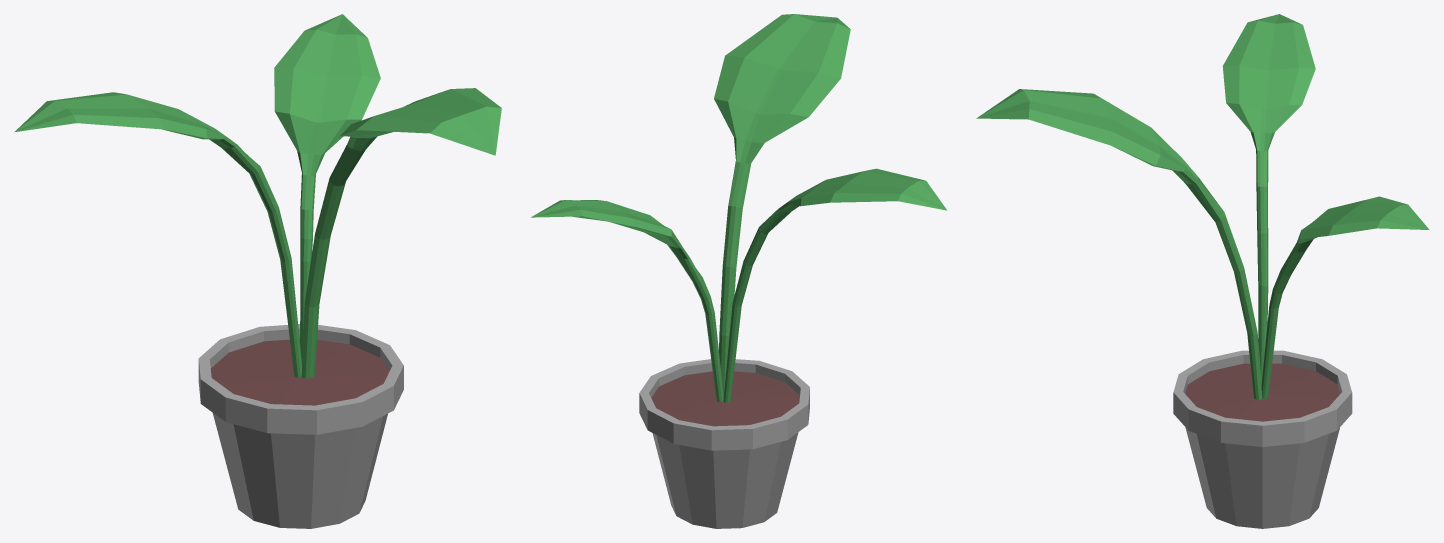
File: PottedPlant.fbx
3 views of the same model, side by side, from view 1: azimuth 30°, elevation 25°; view 2: azimuth 150°, elevation 25°; view 3: azimuth 270°, elevation 25° (orthographic). The views are drawn at different scales.
Visible parts, largest first — view 1: Plant; view 2: Plant; view 3: Plant.
Boxes of the visible parts, <box> form: Plant: <box>14,14,501,528</box>; Plant: <box>531,14,947,528</box>; Plant: <box>976,14,1429,528</box>.
Bounding box in the file's own units: 1.74 × 1.93 × 1.9.
